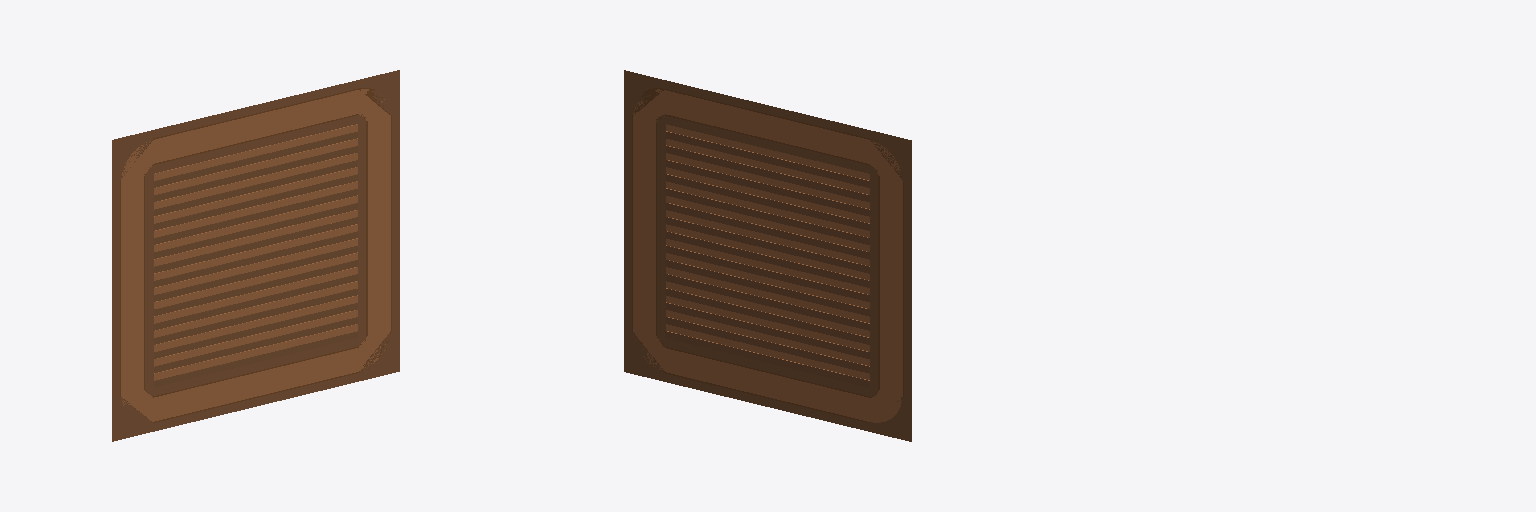
3 views of the same model, side by side, from view 1: azimuth 30°, elevation 25°; view 2: azimuth 150°, elevation 25°; view 3: azimuth 270°, elevation 25° (orthographic).
Visible parts, largest first — view 1: field_ground.002, road_road_SPW_Medieval_Road_01.001_Plane.002; view 2: field_ground.002, road_road_SPW_Medieval_Road_01.001_Plane.002; view 3: none.
Boxes of the visible parts, box(x1,y1,x2,y2) form: field_ground.002: box(154, 124, 357, 387); road_road_SPW_Medieval_Road_01.001_Plane.002: box(112, 70, 399, 441); field_ground.002: box(666, 124, 869, 387); road_road_SPW_Medieval_Road_01.001_Plane.002: box(624, 70, 911, 441).
Bounding box in the file's own units: 84.62 × 84.62 × 0.2.
Materials: 1 (1 with a texture image).